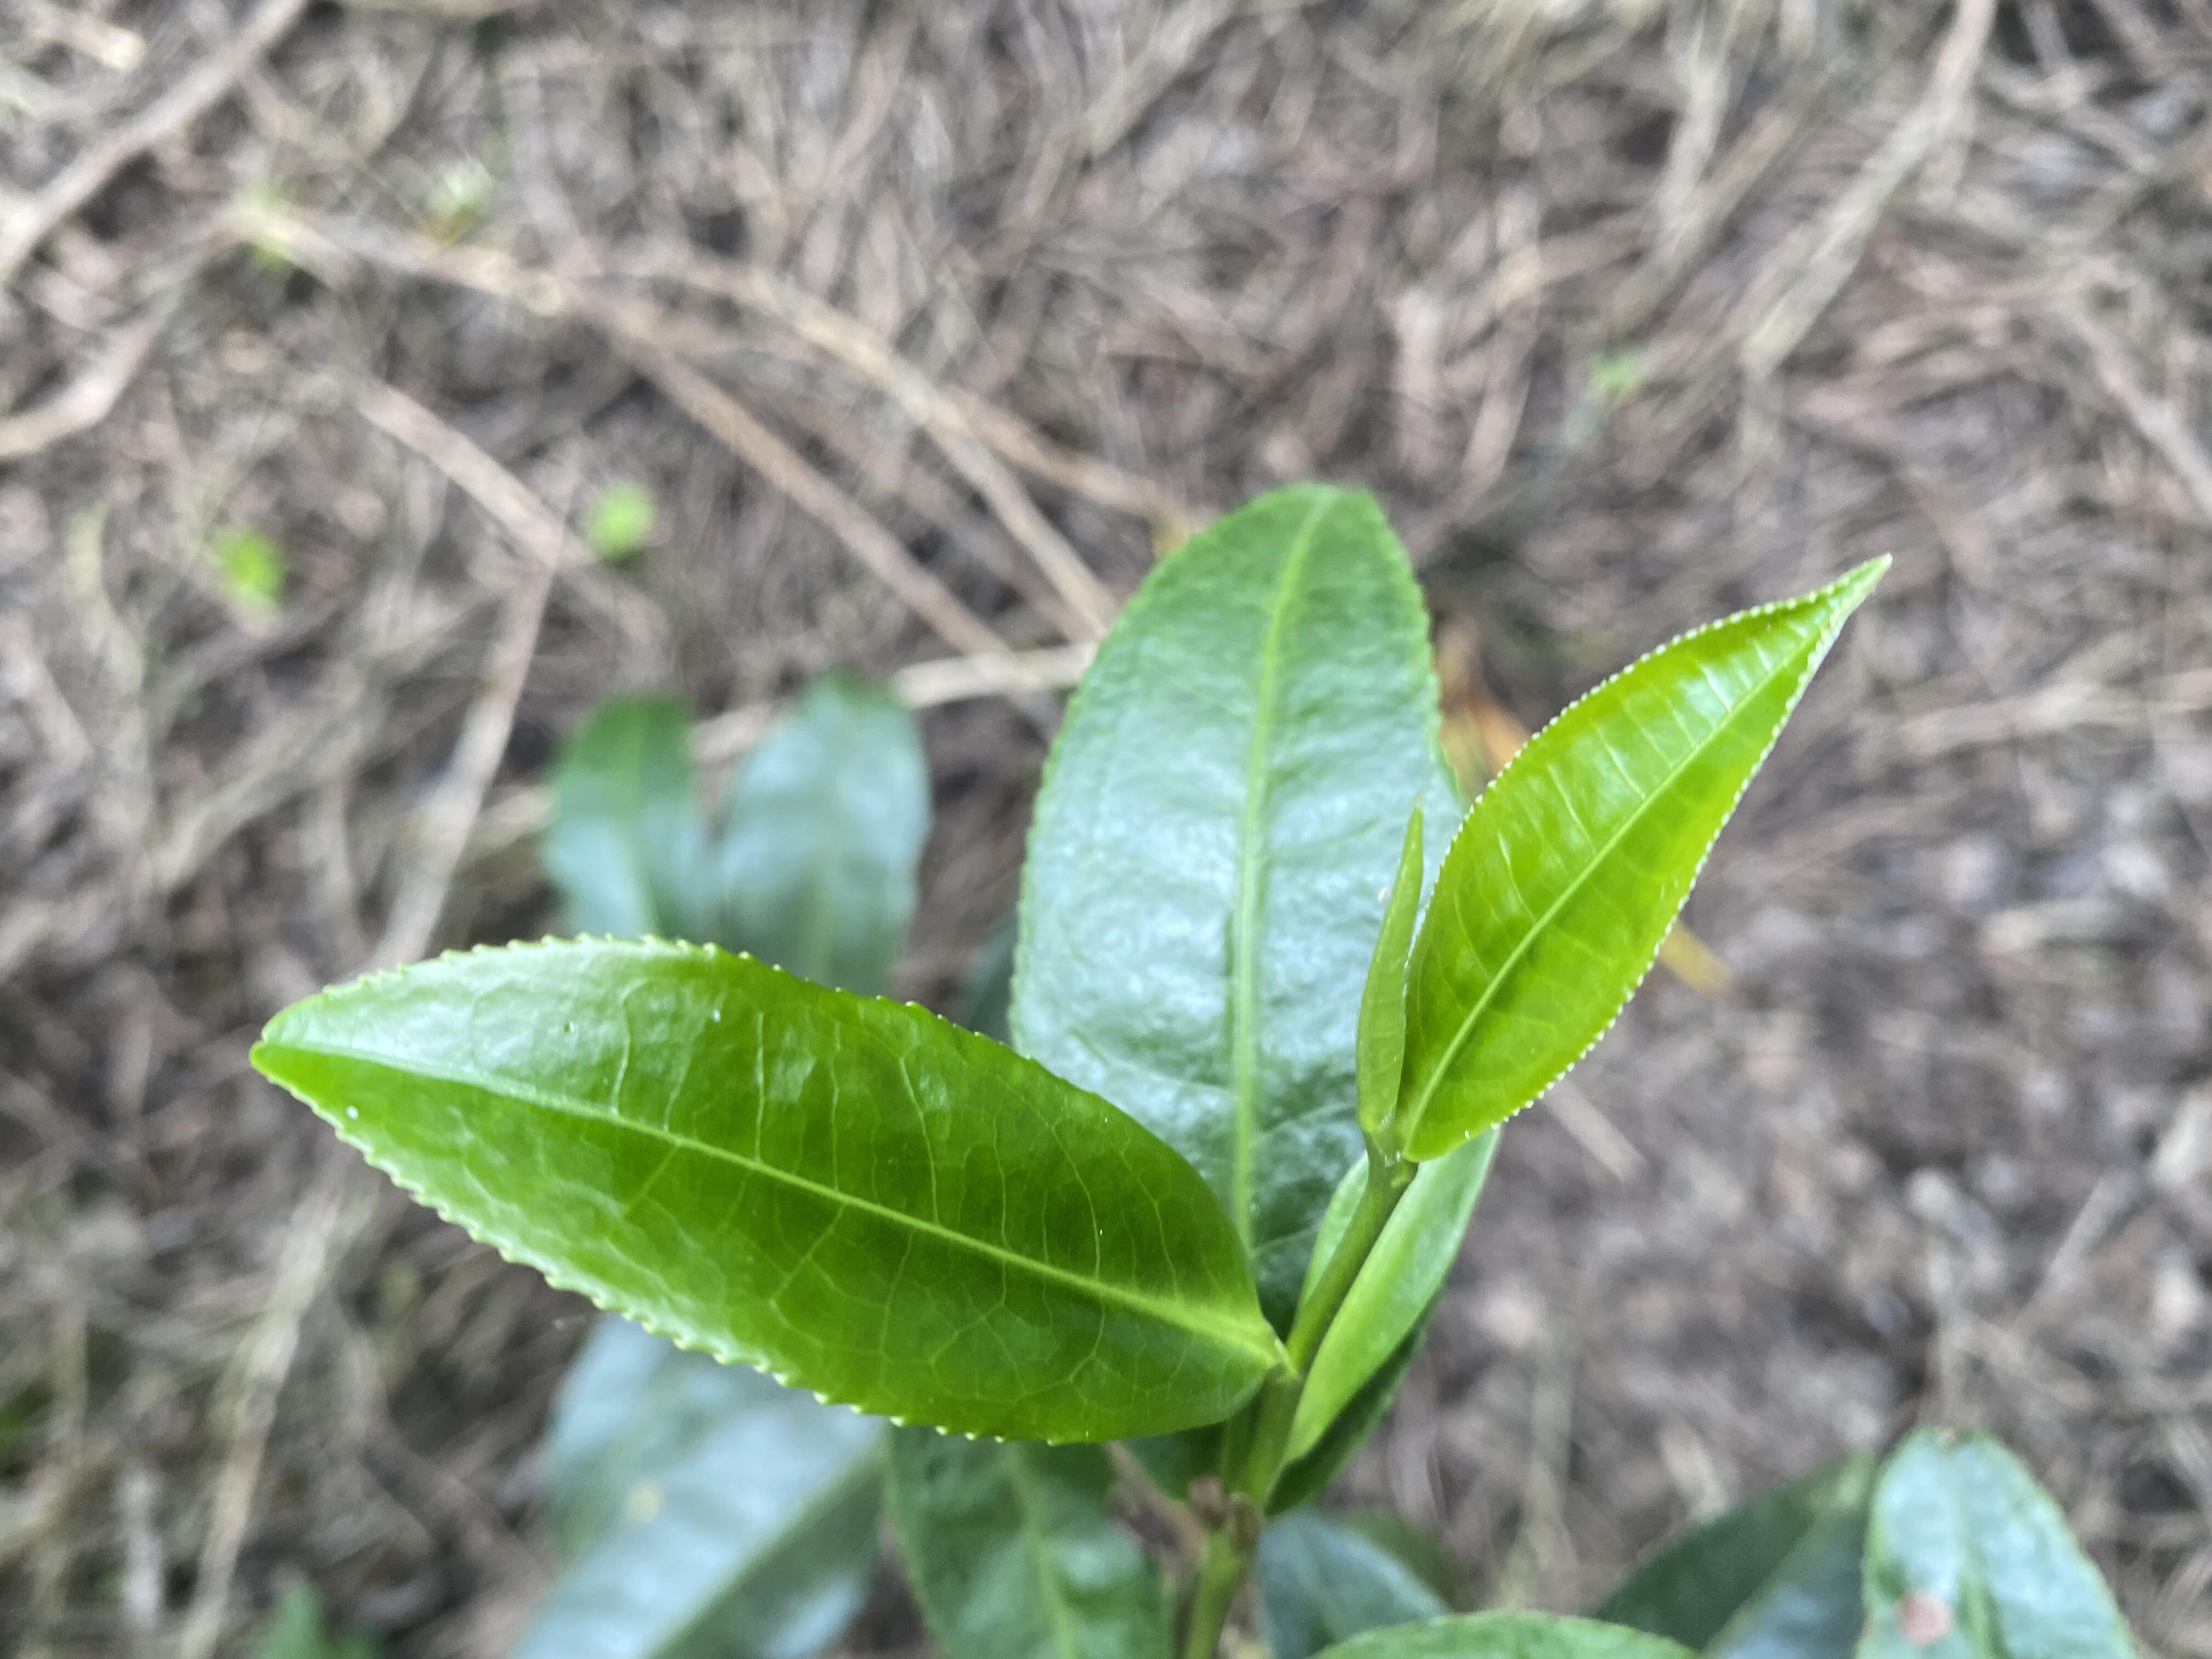healthy: (246, 929, 1275, 1448), (1399, 558, 1902, 1164)
